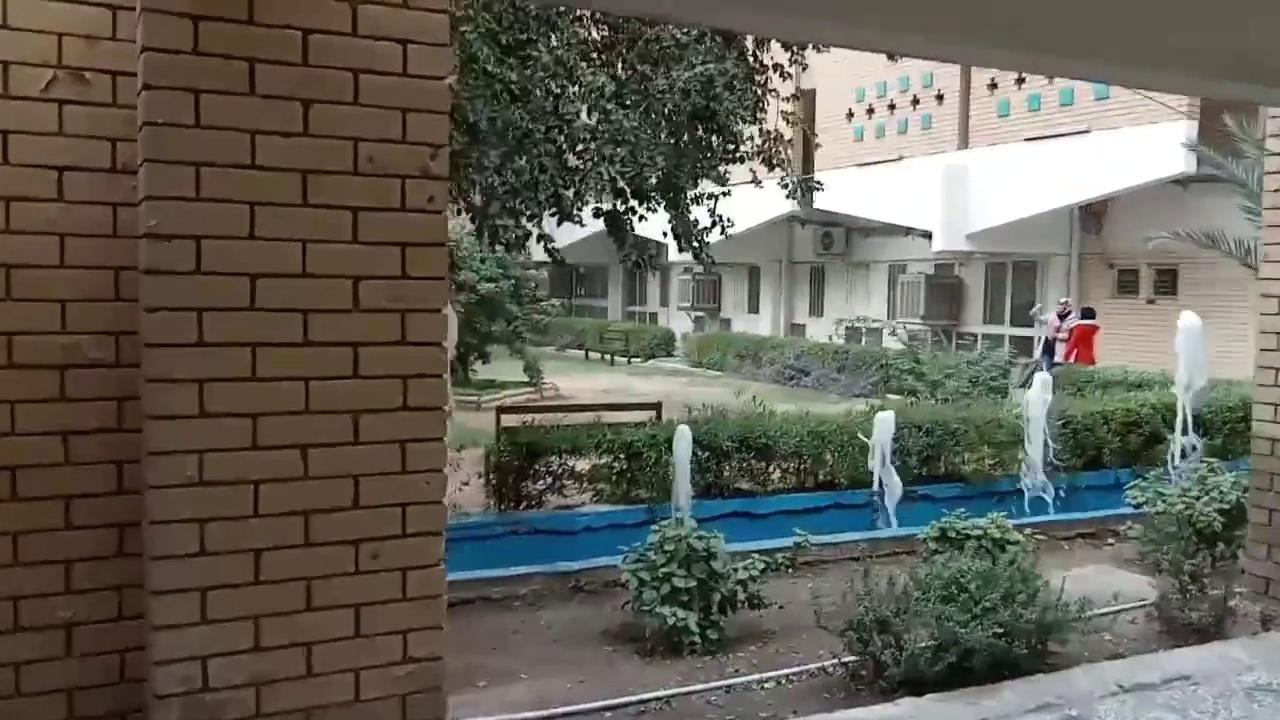fountain: (445, 303, 1247, 581), (617, 420, 742, 655), (1164, 307, 1209, 480), (1014, 367, 1058, 515), (855, 407, 903, 529), (667, 421, 694, 526)
person: (1037, 297, 1078, 372), (1062, 305, 1101, 365)
tree: (445, 1, 828, 391), (1134, 104, 1277, 634), (839, 505, 1090, 694), (614, 512, 803, 655), (1119, 453, 1261, 636), (1143, 107, 1271, 274), (446, 217, 566, 393)
